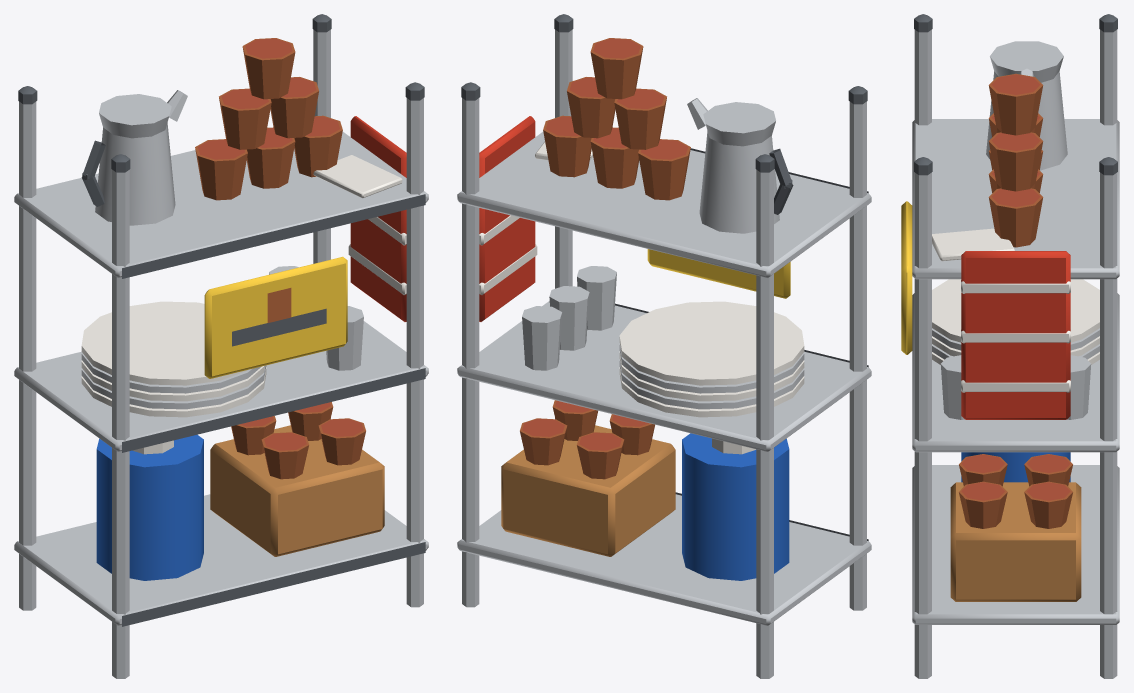
File: tray_rack.glb
3 renders of one model, left to right at view 1: azimuth 30°, elevation 25°; view 2: azimuth 150°, elevation 25°; view 3: azimuth 270°, elevation 25°, orthographic.
Visible parts, largest first — view 1: tray_rack; view 2: tray_rack; view 3: tray_rack.
Boxes of the visible parts, x1,y1,x2,y2 form: tray_rack: (14, 14, 428, 678); tray_rack: (457, 14, 871, 678); tray_rack: (901, 14, 1119, 678).
Bounding box in the file's own units: 0.676 × 1.1 × 0.402.
Materials: 1 (1 with a texture image).
